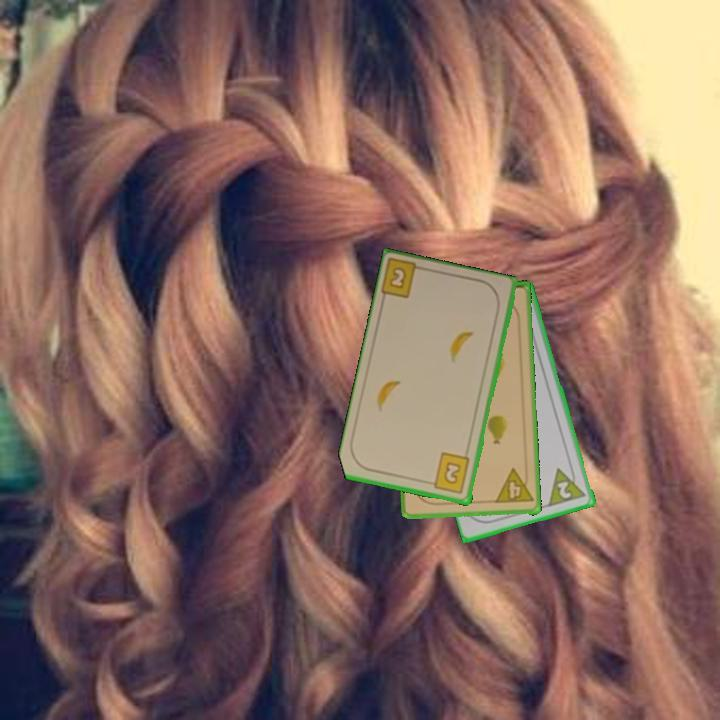2b: (379, 257, 430, 302), (425, 450, 473, 497)
2p: (545, 461, 589, 510)
4p: (491, 465, 536, 507)
